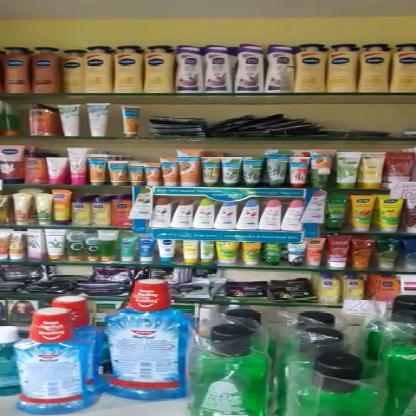Everyuth Naturals Body Lotion Nourishing Cocoa 200ml: (170, 197, 194, 228), (152, 197, 172, 227)
Everyuth Naturals Body Lotion Rejuvenating Flora 200ml: (258, 199, 282, 230), (280, 199, 303, 230)
Everyuth Naturals Body Lotion Soothing Citrus 200ml: (194, 198, 214, 228)
Everyuth Naturals Body Lotion Sun Care Berries SPF 15 200ml: (235, 198, 260, 230), (215, 202, 238, 228)
